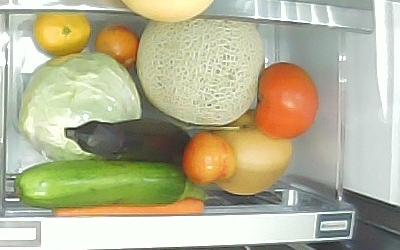cabbage: (18, 51, 143, 160)
carrot: (54, 198, 204, 216)
eggplant: (64, 119, 190, 162)
melon: (136, 19, 263, 125)
pear: (206, 109, 294, 196)
prune: (182, 131, 236, 187), (94, 23, 142, 70)
tangerine: (31, 11, 91, 58)
tomato: (256, 61, 319, 141)
zucchini: (13, 158, 209, 207)
